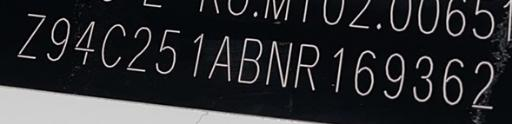letter: (15, 11, 47, 60), (152, 26, 182, 76), (264, 38, 294, 88), (292, 41, 320, 91), (125, 24, 153, 72), (206, 34, 232, 82), (236, 36, 262, 84), (470, 58, 494, 110), (410, 52, 434, 103), (352, 48, 378, 95), (100, 22, 126, 68), (45, 16, 71, 61), (382, 52, 406, 99), (441, 56, 465, 103), (72, 18, 96, 64), (329, 44, 345, 92), (190, 30, 204, 77)
